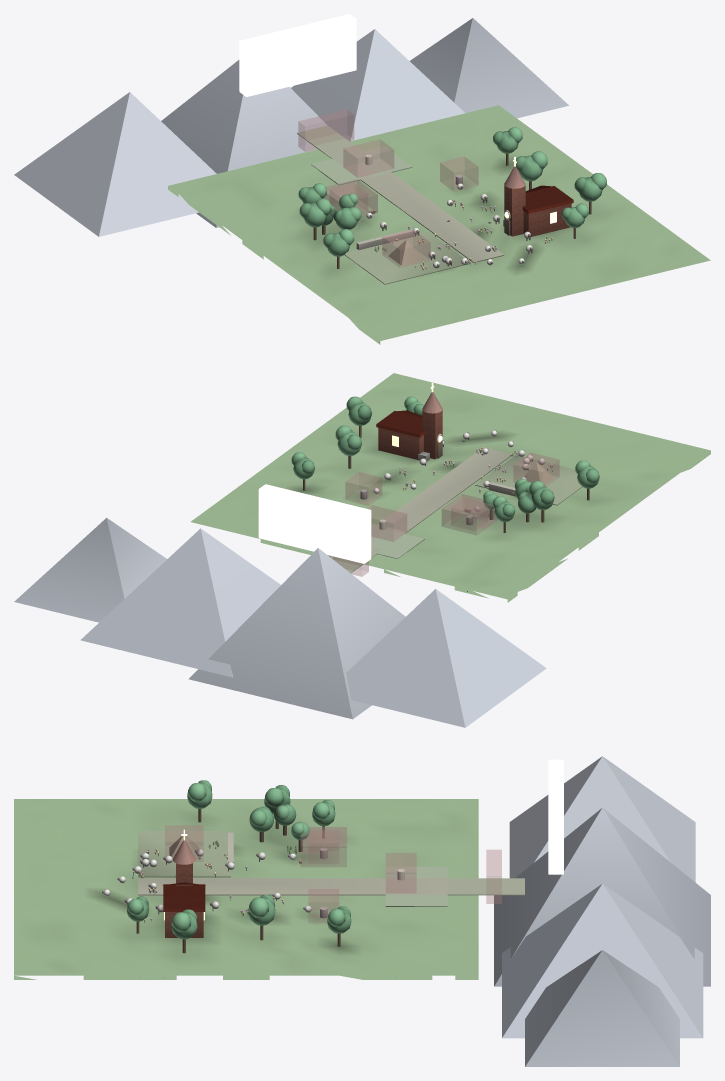
Rendered from delectable_mountains.glb.
3 views of the same model, one above another, from view 1: azimuth 30°, elevation 25°; view 2: azimuth 150°, elevation 25°; view 3: azimuth 270°, elevation 25° (orthographic). The views are drawn at different scales.
Parts seen in each view (by area): view 1: ENV_Mountains_Pasture, VIS_PROP_Ridge_SnowPeaks (×4), PROP_DistantCelestialCity, ENV_Mountains_ViewpointPath, ENV_Mountains_ShepherdCamp, VIS_PROP_Chapel (×3), TRIGGER_Exit_EnchantedGround, ENV_Mountains_CelestialView, TRIGGER_CelestialView, TRIGGER_ReceiveShepherdMap, ENV_Mountains_ExitPath, COL_ErrorCliffWarningZone (+3 smaller); view 2: VIS_PROP_Ridge_SnowPeaks (×4), ENV_Mountains_Pasture, PROP_DistantCelestialCity, ENV_Mountains_ViewpointPath, VIS_PROP_Chapel (×3), ENV_Mountains_ShepherdCamp, COL_ErrorCliffWarningZone, TRIGGER_ReceiveShepherdMap, TRIGGER_CelestialView, ENV_Mountains_CelestialView, TRIGGER_ShortcutGraveView, TRIGGER_ErrorCliffView; view 3: ENV_Mountains_Pasture, VIS_PROP_Ridge_SnowPeaks (×4), ENV_Mountains_ViewpointPath, ENV_Mountains_ShepherdCamp, PROP_DistantCelestialCity, COL_ErrorCliffWarningZone, ENV_Mountains_CelestialView, ENV_Mountains_ExitPath, TRIGGER_CelestialView, VIS_PROP_Chapel, TRIGGER_ReceiveShepherdMap, TRIGGER_ErrorCliffView (+2 smaller).
Boxes of the visible parts, x1=… form: ENV_Mountains_Pasture: x1=168, y1=105, x2=710, y2=344; VIS_PROP_Ridge_SnowPeaks (×4): x1=14, y1=18, x2=568, y2=236; PROP_DistantCelestialCity: x1=239, y1=14, x2=356, y2=96; ENV_Mountains_ViewpointPath: x1=340, y1=158, x2=504, y2=262; ENV_Mountains_ShepherdCamp: x1=344, y1=232, x2=470, y2=284; VIS_PROP_Chapel (×3): x1=504, y1=183, x2=573, y2=236; TRIGGER_Exit_EnchantedGround: x1=298, y1=109, x2=353, y2=151; ENV_Mountains_CelestialView: x1=311, y1=146, x2=412, y2=185; TRIGGER_CelestialView: x1=343, y1=139, x2=393, y2=177; TRIGGER_ReceiveShepherdMap: x1=382, y1=229, x2=430, y2=267; ENV_Mountains_ExitPath: x1=297, y1=125, x2=366, y2=163; COL_ErrorCliffWarningZone: x1=323, y1=179, x2=377, y2=217; VIS_PROP_Ridge_SnowPeaks (×4): x1=14, y1=517, x2=546, y2=727; ENV_Mountains_Pasture: x1=191, y1=373, x2=710, y2=602; PROP_DistantCelestialCity: x1=258, y1=484, x2=371, y2=563; ENV_Mountains_ViewpointPath: x1=371, y1=447, x2=512, y2=546; VIS_PROP_Chapel (×3): x1=376, y1=408, x2=442, y2=459; ENV_Mountains_ShepherdCamp: x1=475, y1=455, x2=582, y2=505; COL_ErrorCliffWarningZone: x1=441, y1=494, x2=497, y2=534; TRIGGER_ReceiveShepherdMap: x1=513, y1=453, x2=559, y2=486; TRIGGER_CelestialView: x1=367, y1=505, x2=406, y2=541; ENV_Mountains_CelestialView: x1=371, y1=526, x2=424, y2=558; TRIGGER_ShortcutGraveView: x1=345, y1=472, x2=381, y2=505; TRIGGER_ErrorCliffView: x1=451, y1=498, x2=487, y2=530; ENV_Mountains_Pasture: x1=14, y1=799, x2=478, y2=979; VIS_PROP_Ridge_SnowPeaks (×4): x1=494, y1=756, x2=710, y2=1066; ENV_Mountains_ViewpointPath: x1=138, y1=878, x2=447, y2=895; ENV_Mountains_ShepherdCamp: x1=138, y1=831, x2=230, y2=877; PROP_DistantCelestialCity: x1=548, y1=759, x2=563, y2=874; COL_ErrorCliffWarningZone: x1=300, y1=827, x2=346, y2=866; ENV_Mountains_CelestialView: x1=385, y1=866, x2=447, y2=906; ENV_Mountains_ExitPath: x1=432, y1=878, x2=524, y2=895; TRIGGER_CelestialView: x1=386, y1=853, x2=416, y2=893; VIS_PROP_Chapel: x1=163, y1=884, x2=205, y2=911; TRIGGER_ReceiveShepherdMap: x1=165, y1=825, x2=203, y2=861; TRIGGER_ErrorCliffView: x1=308, y1=830, x2=338, y2=863.
Bounding box in the file's own units: 78 × 23.5 × 90.
57 materials, 2 textured.
